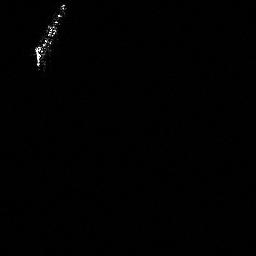ship: (29, 1, 70, 74)
